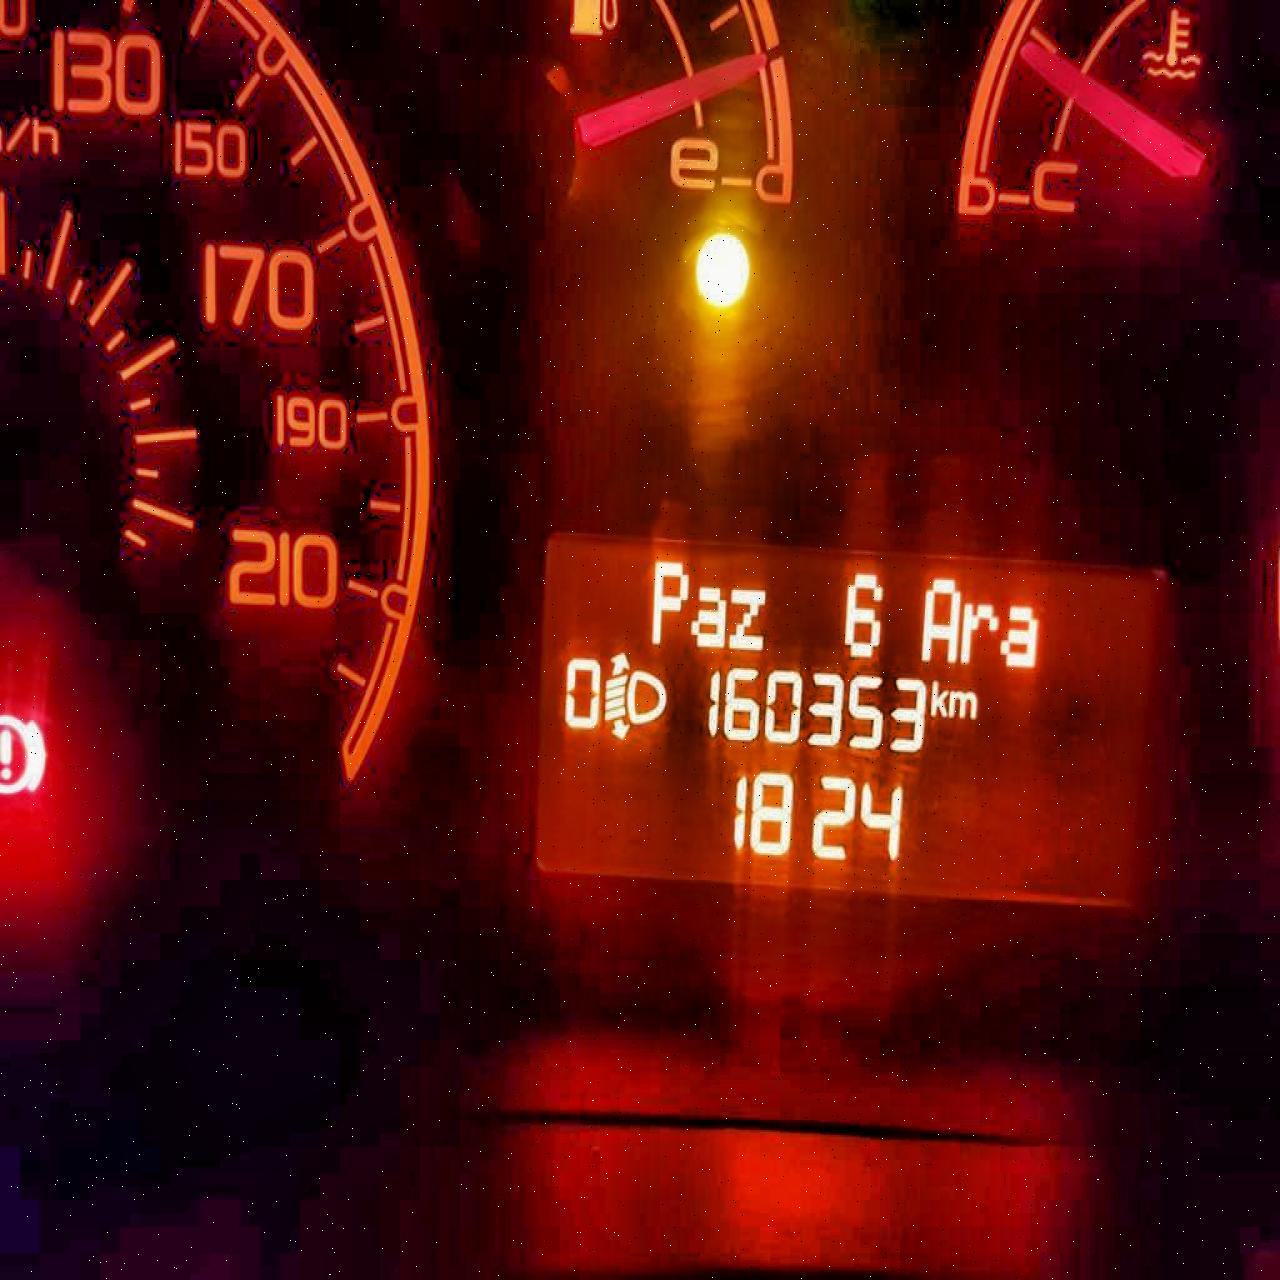0: (561, 652, 602, 734), (763, 666, 803, 747)
1: (728, 765, 748, 852), (700, 663, 719, 740)
2: (809, 769, 856, 864)
3: (805, 667, 844, 750), (887, 674, 926, 754)
4: (858, 775, 904, 862)
5: (847, 670, 884, 751)
6: (840, 565, 885, 662), (721, 660, 761, 743)
8: (750, 765, 794, 857)
X: (646, 552, 690, 648), (918, 573, 958, 667), (999, 600, 1040, 670), (727, 584, 768, 654), (959, 595, 998, 665), (690, 578, 726, 652), (948, 683, 978, 720), (928, 672, 946, 719)
odometer: (529, 524, 1167, 924)
